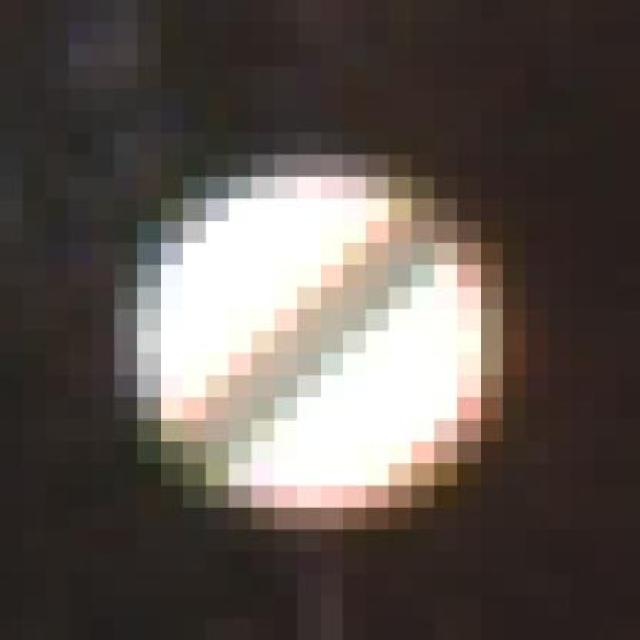End of all speed and passing limits: (137, 155, 526, 530)
